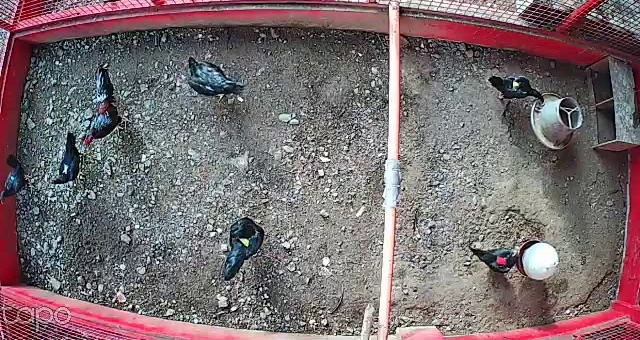Chicken: (221, 217, 269, 280), (183, 55, 242, 101), (47, 130, 92, 184), (486, 71, 545, 108), (465, 239, 520, 276), (0, 157, 39, 208)
Rooster: (79, 63, 137, 149)
Saddle_Color_Blue: (10, 175, 15, 181)
Saddle_Color_Red: (497, 256, 507, 265)
Saddle_Color_White: (62, 167, 67, 174)
Saddle_Color_Yellow: (512, 78, 521, 91)
Saddle_Color_YellowGreen: (238, 233, 254, 249)
